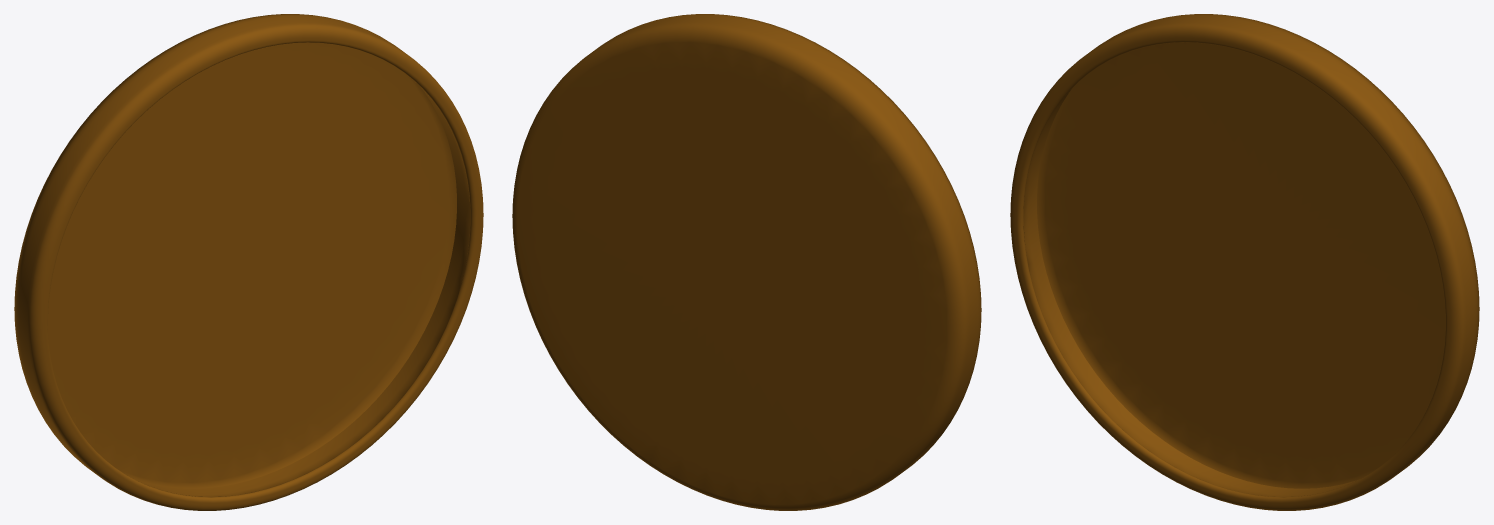
File: original-21.obj
3 views of the same model, side by side, from view 1: azimuth 30°, elevation 25°; view 2: azimuth 150°, elevation 25°; view 3: azimuth 330°, elevation 25° (orthographic).
Parts seen in each view (by area): view 1: Group16/mesh44/mesh44-geometry#mesh44-geometry; view 2: Group16/mesh44/mesh44-geometry#mesh44-geometry; view 3: Group16/mesh44/mesh44-geometry#mesh44-geometry.
Part boxes in pixels (left/top/right/bottom): Group16/mesh44/mesh44-geometry#mesh44-geometry: left=14, top=14, right=483, bottom=510; Group16/mesh44/mesh44-geometry#mesh44-geometry: left=512, top=14, right=981, bottom=510; Group16/mesh44/mesh44-geometry#mesh44-geometry: left=1010, top=14, right=1479, bottom=510.
Bounding box in the file's own units: 1.95 × 1.95 × 0.2071.
